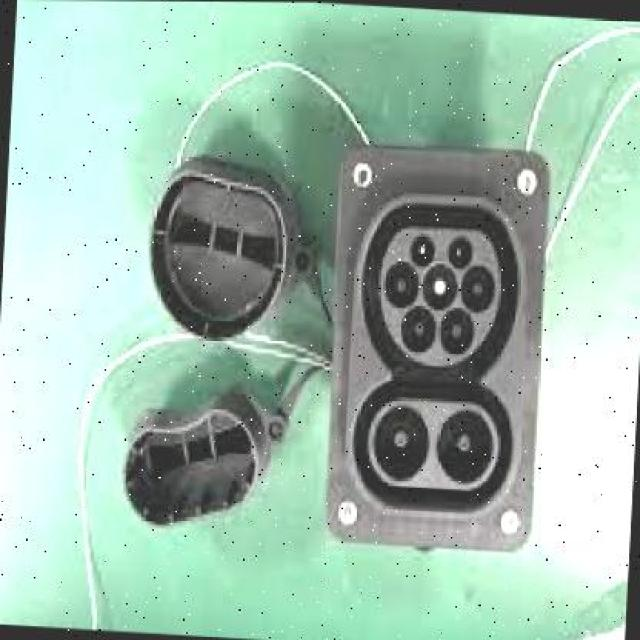CCS2: (346, 172, 531, 539)
